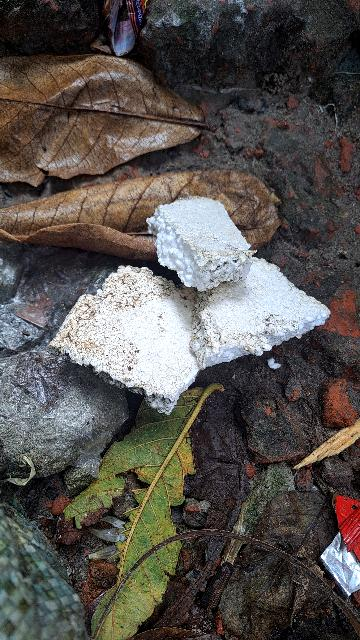cocksheet: (37, 178, 339, 417)
